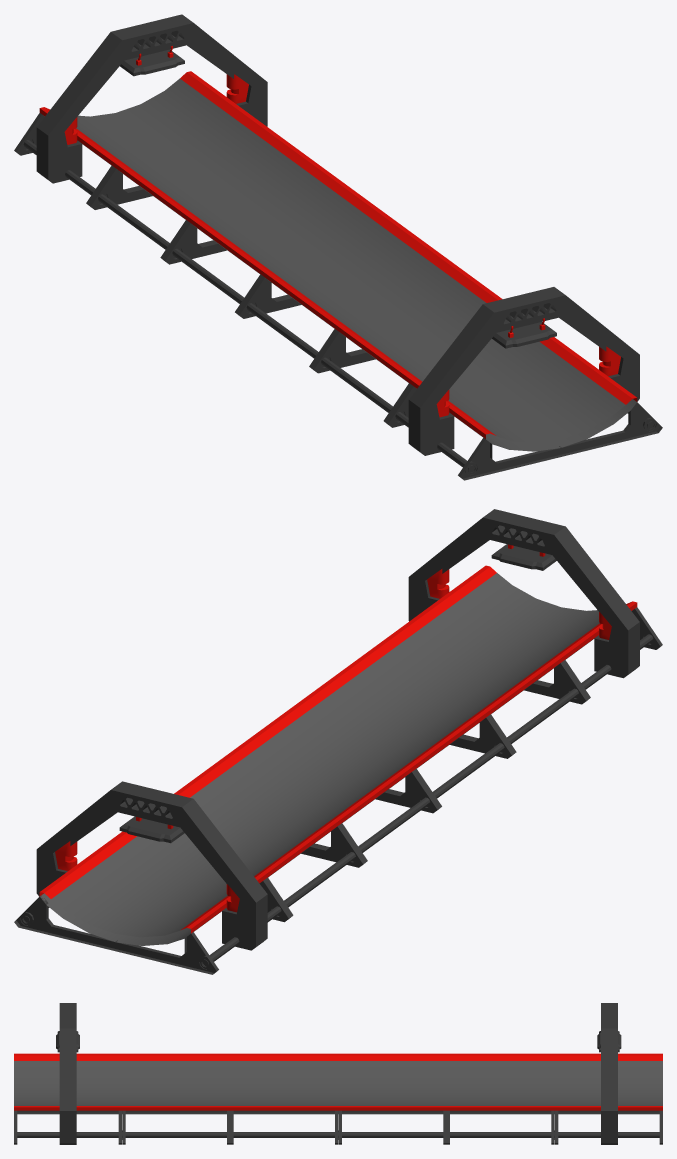
Rendered from RacetrackStraight.fbx.
The picture shows the model from 3 angles, top to bottom: view 1: azimuth 30°, elevation 25°; view 2: azimuth 150°, elevation 25°; view 3: azimuth 270°, elevation 25°; orthographic projection. The views are drawn at different scales.
Visible parts, largest first — view 1: Cube.003, LampFrame, Cube.001; view 2: Cube.003, LampFrame, Cube.001; view 3: Cube.003, LampFrame, Cube.001.
Part boxes in pixels (bbox=[...]): Cube.003: bbox=[14, 71, 637, 451]; LampFrame: bbox=[36, 14, 639, 455]; Cube.001: bbox=[23, 140, 662, 480]; Cube.003: bbox=[14, 565, 637, 974]; LampFrame: bbox=[36, 509, 639, 950]; Cube.001: bbox=[20, 607, 662, 969]; Cube.003: bbox=[14, 1053, 662, 1144]; LampFrame: bbox=[56, 1003, 621, 1144]; Cube.001: bbox=[14, 1110, 659, 1144].
Bounding box in the file's own units: 4090 × 2315 × 14400.
